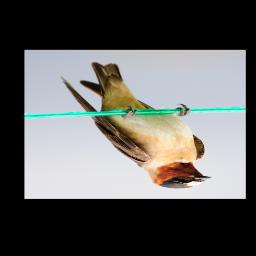Swallow: (60, 62, 212, 189)
